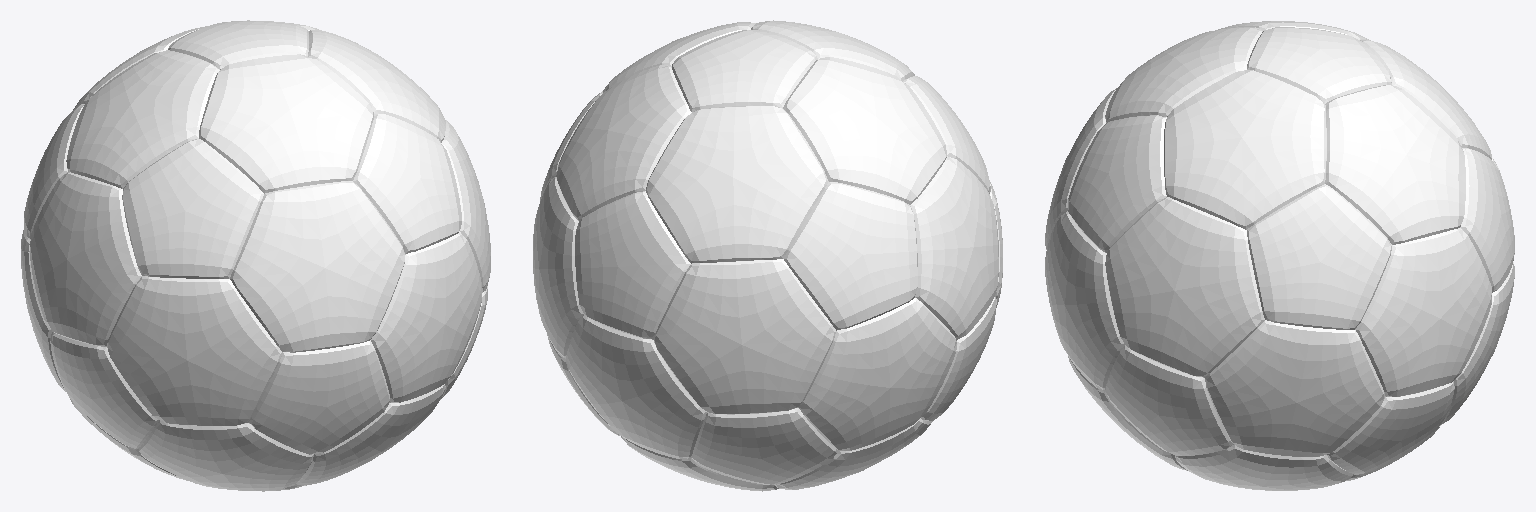
The robot description file, URDF, robot "soccerball.urdf":
<?xml version="1.0" ?>
<robot name="soccerball.urdf">
  <link name="baseLink">
    <inertial>
      <origin rpy="0 0 0" xyz="0 0 0"/>
       <mass value="0.0"/>
       <inertia ixx="0" ixy="0" ixz="0" iyy="0" iyz="0" izz="0"/>
    </inertial>
    <visual>
      <origin rpy="0 0 0" xyz="0 0 0"/>
      <geometry>
        <mesh filename="soccerball.obj" scale="0.01 0.01 0.01"/>
      </geometry>
      <material name="white">
       <color rgba="1 1 1 1"/>
     </material>
    </visual>
    <collision>
      <origin rpy="0 0 0" xyz="0 0 0"/>
      <geometry>
        <mesh filename="soccerball.obj" scale="0.01 0.01 0.01"/>
        <!-- You could also specify the collision (for the soccerball) with a "box" tag: -->
        <!-- <box size=".06 .06 .06"/> -->
      </geometry>
    </collision>
  </link>
</robot>
        

--- What the picture shows (computed from the rendered views, not written in the file) ---
The picture shows the robot from 3 angles, left to right: view 1: azimuth 30°, elevation 25°; view 2: azimuth 150°, elevation 25°; view 3: azimuth 270°, elevation 25°; orthographic projection.
Model soccerball.urdf with 1 links and 0 joints (none), rooted at baseLink, posed every joint at zero.
Visible links, largest first — view 1: baseLink; view 2: baseLink; view 3: baseLink.
Link boxes in pixels (left/top/right/bottom): baseLink: left=21, top=20, right=490, bottom=491; baseLink: left=533, top=20, right=1002, bottom=491; baseLink: left=1045, top=21, right=1514, bottom=490.
Bounding box of the posed robot: 0.2586 × 0.2585 × 0.2587 m (x, y, z).
1 mesh visuals loaded from 1 distinct referenced files (1 OBJ).